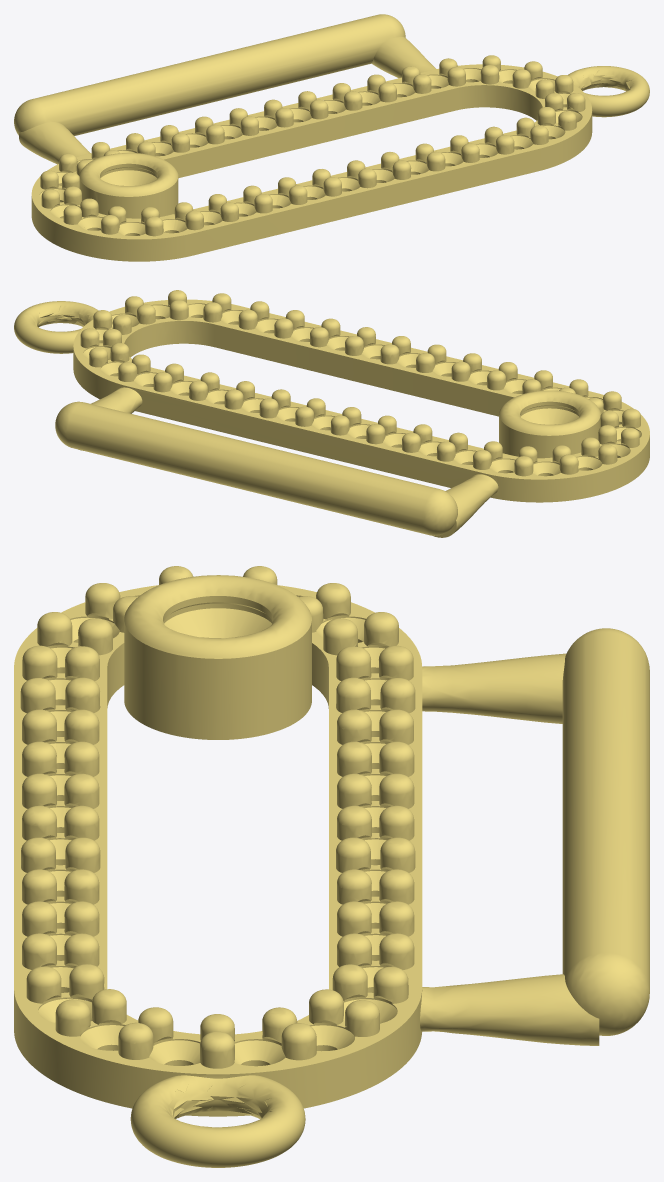
The model's file is ozkan-11-1.glb.
3 views of the same model, one above another, from view 1: azimuth 30°, elevation 25°; view 2: azimuth 150°, elevation 25°; view 3: azimuth 270°, elevation 25° (orthographic). The views are drawn at different scales.
Visible parts, largest first — view 1: Renderer Node; view 2: Renderer Node; view 3: Renderer Node.
Boxes of the visible parts, x1=… form: Renderer Node: x1=14, y1=14, x2=649, y2=261; Renderer Node: x1=14, y1=290, x2=649, y2=537; Renderer Node: x1=14, y1=566, x2=649, y2=1167.
Size of the model in its own units: 22.71 by 1.96 by 11.01.
